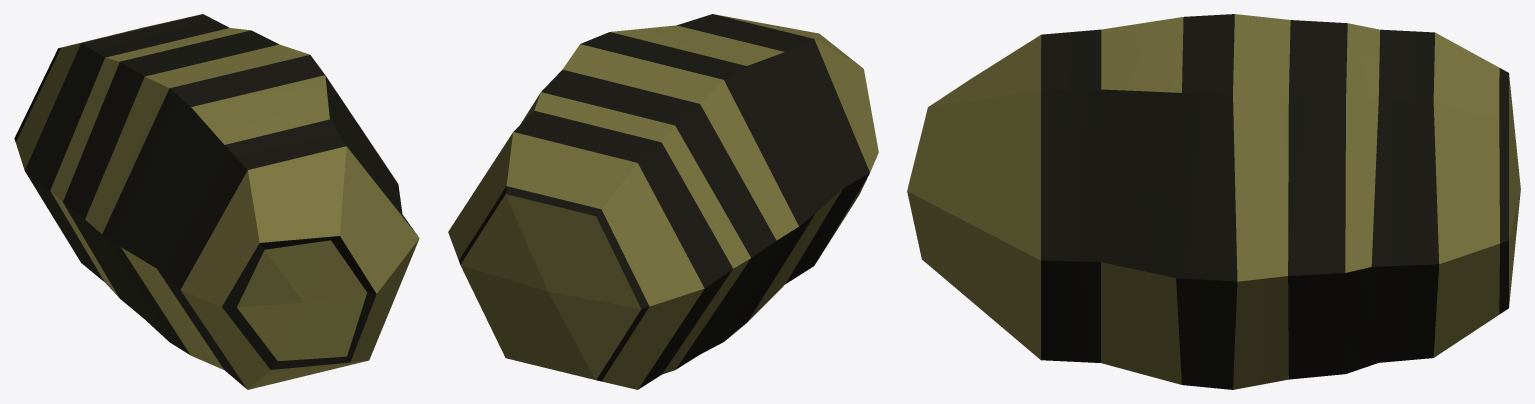
3 renders of one model, left to right at view 1: azimuth 30°, elevation 25°; view 2: azimuth 150°, elevation 25°; view 3: azimuth 270°, elevation 25°, orthographic. The views are drawn at different scales.
Parts seen in each view (by area): view 1: 芋; view 2: 芋; view 3: 芋.
Part boxes in pixels (x1=…): 芋: x1=14, y1=14, x2=419, y2=389; 芋: x1=448, y1=14, x2=878, y2=389; 芋: x1=907, y1=14, x2=1520, y2=389.
Size of the model in its own units: 9.36 by 15.23 by 8.11.
